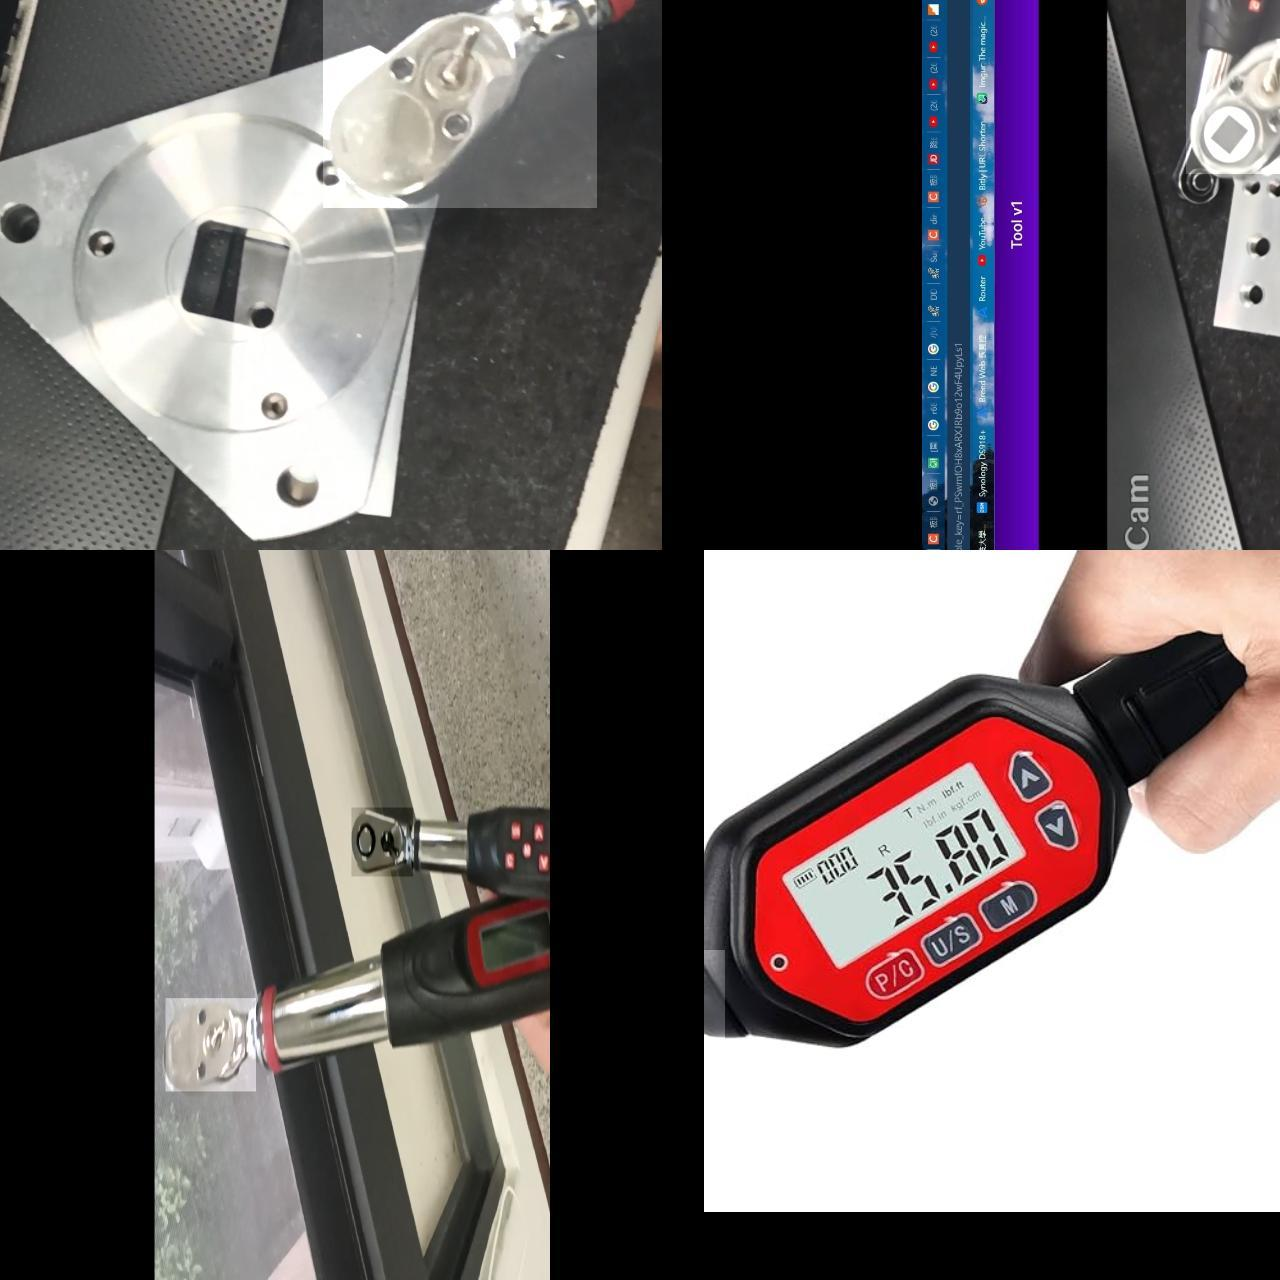Tool: (322, 4, 597, 204), (1187, 14, 1280, 170), (168, 996, 259, 1091), (353, 806, 415, 874)
hole: (268, 461, 324, 513), (0, 200, 47, 248), (77, 220, 123, 263), (260, 386, 295, 422), (313, 158, 345, 190), (1238, 279, 1267, 311), (1245, 233, 1274, 260), (1244, 176, 1264, 203), (1264, 175, 1280, 206)
